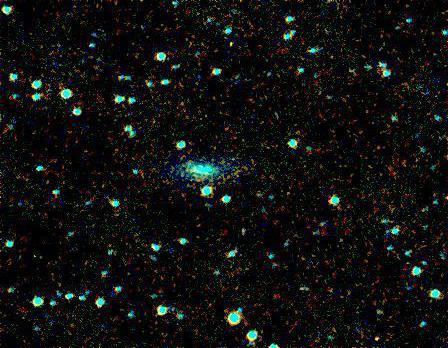star: (360, 326, 390, 348)
